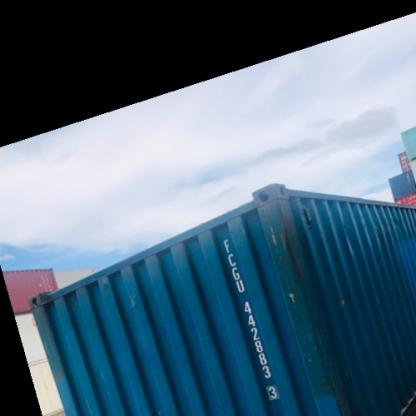Damage: (273, 217, 323, 320), (373, 216, 413, 235), (337, 292, 355, 316)
